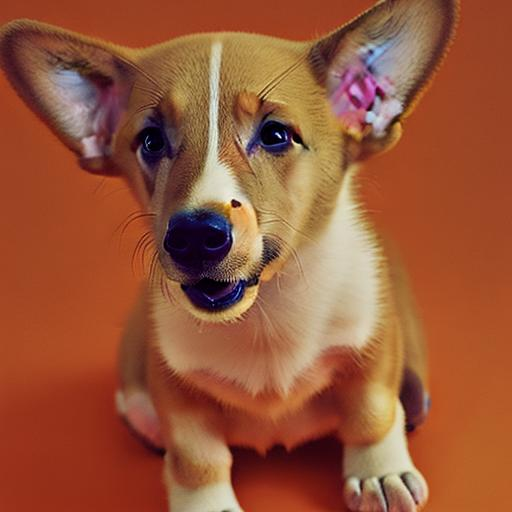eye: (247, 114, 308, 159), (124, 132, 187, 165)
